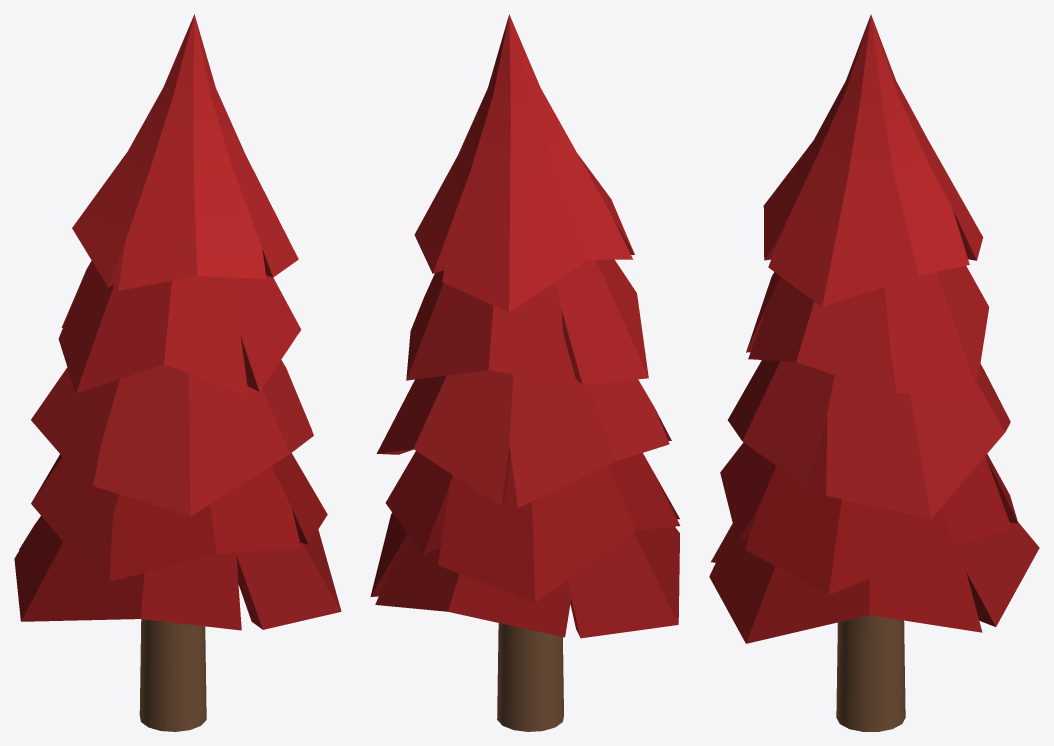
The model's file is Spruce_Red_Thin_1.fbx.
3 renders of one model, left to right at view 1: azimuth 30°, elevation 25°; view 2: azimuth 150°, elevation 25°; view 3: azimuth 270°, elevation 25°, orthographic. The views are drawn at different scales.
Visible parts, largest first — view 1: Cylinder.508, Cylinder.509, Cylinder.510, Cylinder.512, Cylinder.511, Cylinder.513; view 2: Cylinder.508, Cylinder.509, Cylinder.511, Cylinder.510, Cylinder.512, Cylinder.513; view 3: Cylinder.508, Cylinder.509, Cylinder.511, Cylinder.510, Cylinder.512, Cylinder.513.
Part boxes in pixels (left/top/right/bottom): Cylinder.508: left=72, top=14, right=298, bottom=290; Cylinder.509: left=31, top=360, right=313, bottom=516; Cylinder.510: left=58, top=261, right=301, bottom=394; Cylinder.512: left=14, top=516, right=341, bottom=630; Cylinder.511: left=31, top=453, right=327, bottom=581; Cylinder.513: left=139, top=619, right=206, bottom=731; Cylinder.508: left=414, top=14, right=634, bottom=312; Cylinder.509: left=376, top=333, right=671, bottom=507; Cylinder.511: left=385, top=451, right=680, bottom=602; Cylinder.510: left=406, top=259, right=648, bottom=384; Cylinder.512: left=370, top=512, right=679, bottom=638; Cylinder.513: left=497, top=623, right=563, bottom=731; Cylinder.508: left=763, top=14, right=983, bottom=307; Cylinder.509: left=728, top=356, right=1010, bottom=518; Cylinder.511: left=720, top=439, right=1017, bottom=594; Cylinder.510: left=746, top=266, right=989, bottom=393; Cylinder.512: left=709, top=522, right=1039, bottom=643; Cylinder.513: left=836, top=615, right=905, bottom=731.
Bounding box in the file's own units: 247 × 567 × 238.
